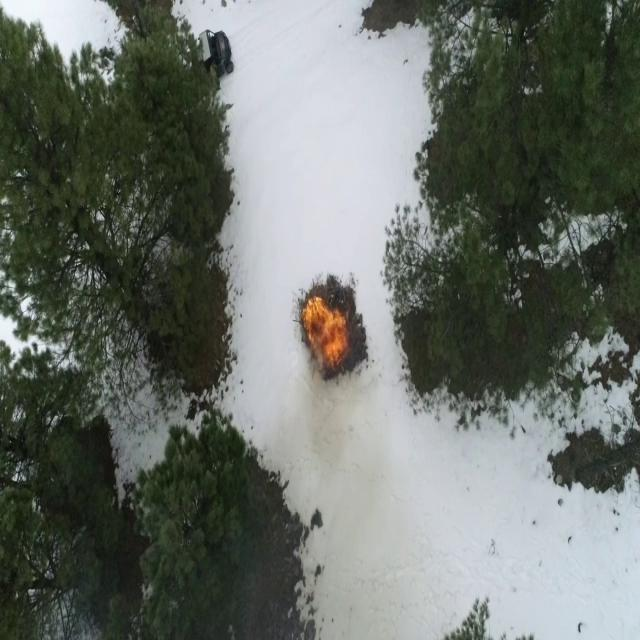fire: (301, 298, 348, 374)
